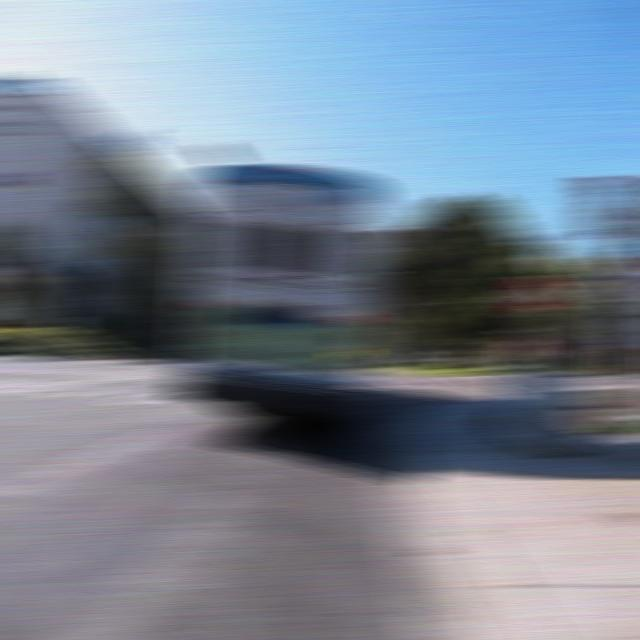stop_sign: (504, 273, 556, 316)
